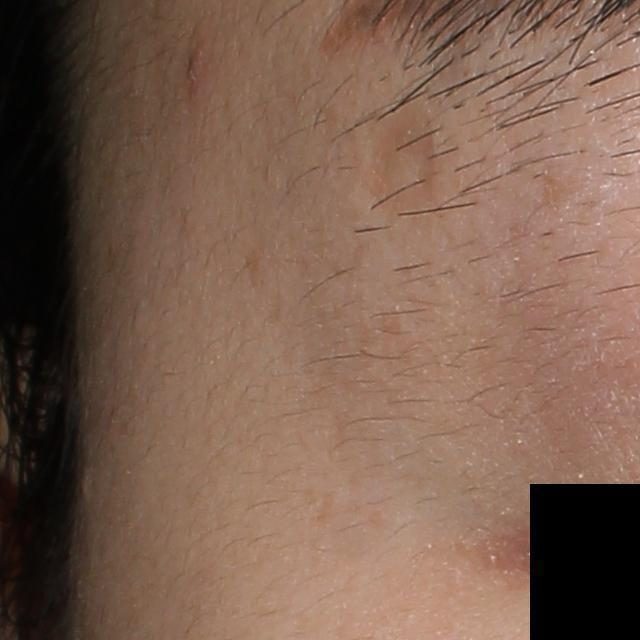papule: (180, 48, 205, 93)
